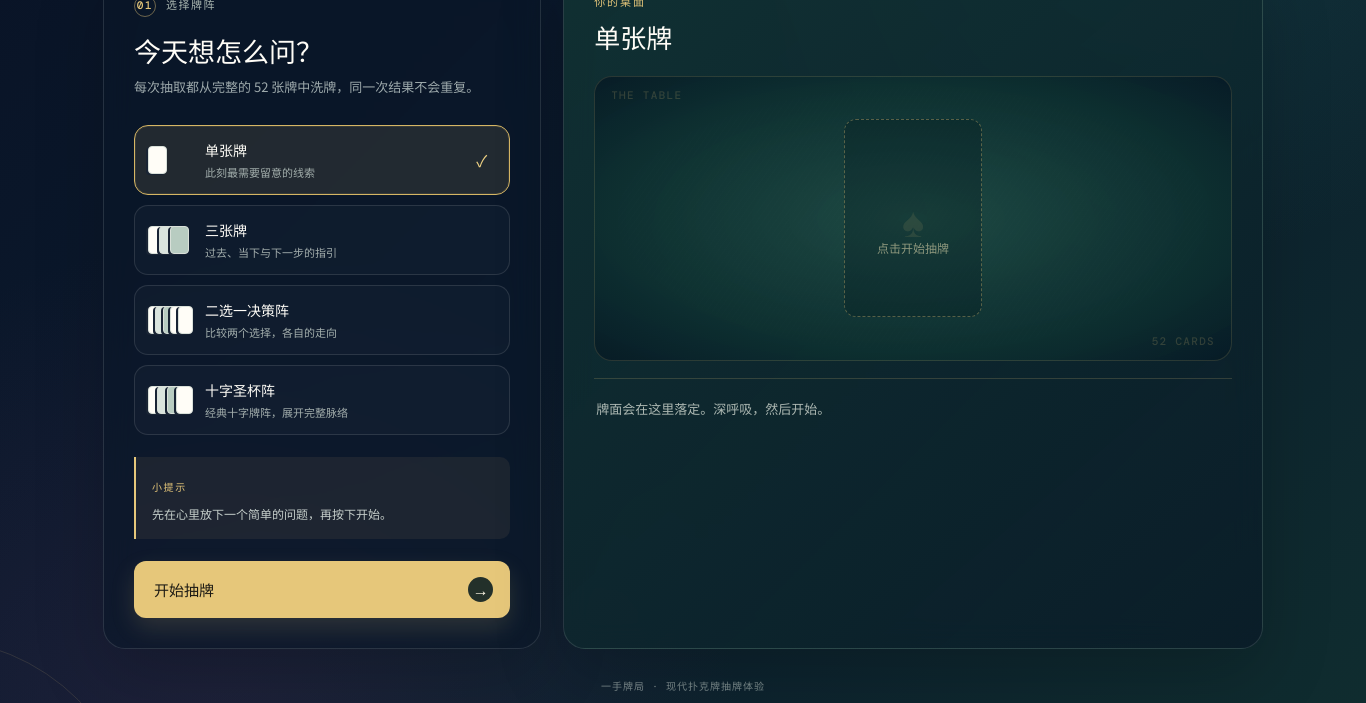
Test: 塔罗牌阵游戏 › 支持{}并展示对应牌位
(page scrolled)
Click the radio button labelled "二选一决策阵 比较两个选择，各自的走向".
click(247, 310)  # box left=134, top=285, right=510, bottom=355
(page scrolled)
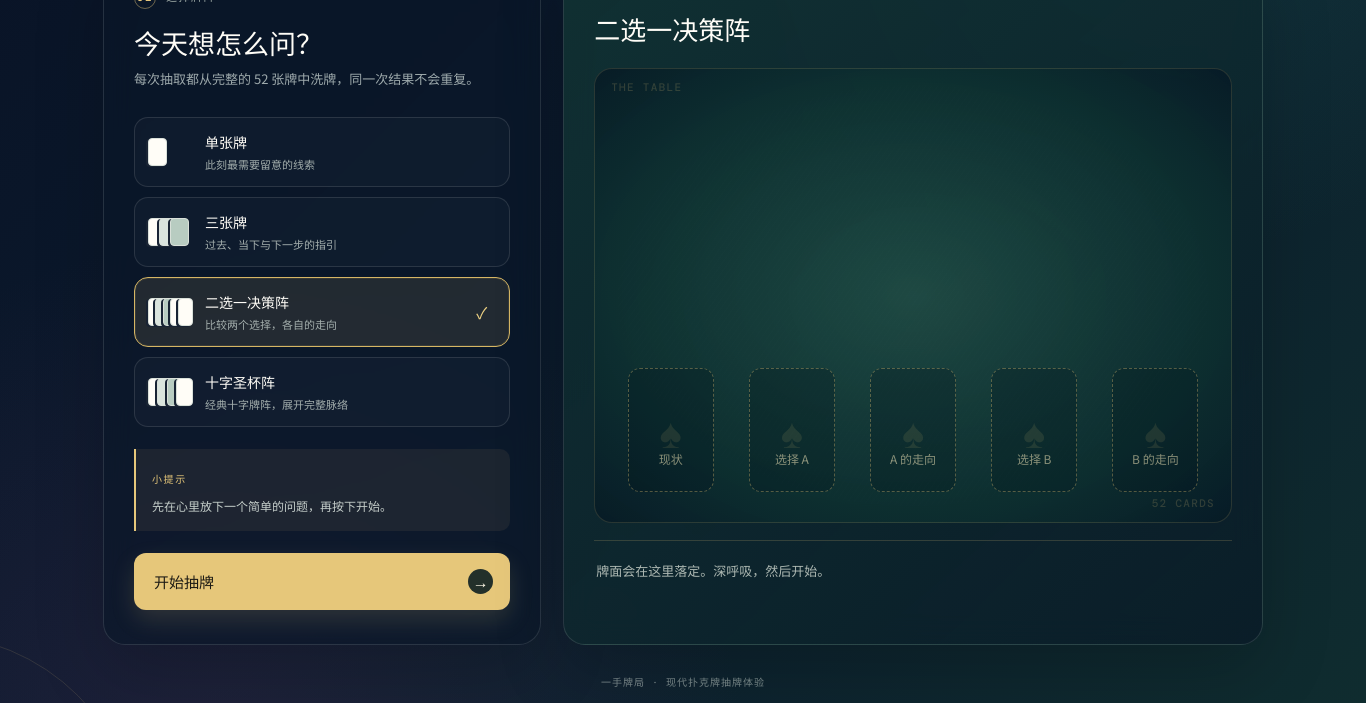
Click the button "开始抽牌 →".
click(184, 581)  # box left=134, top=552, right=510, bottom=610
Wait 540 ms
(page scrolled)
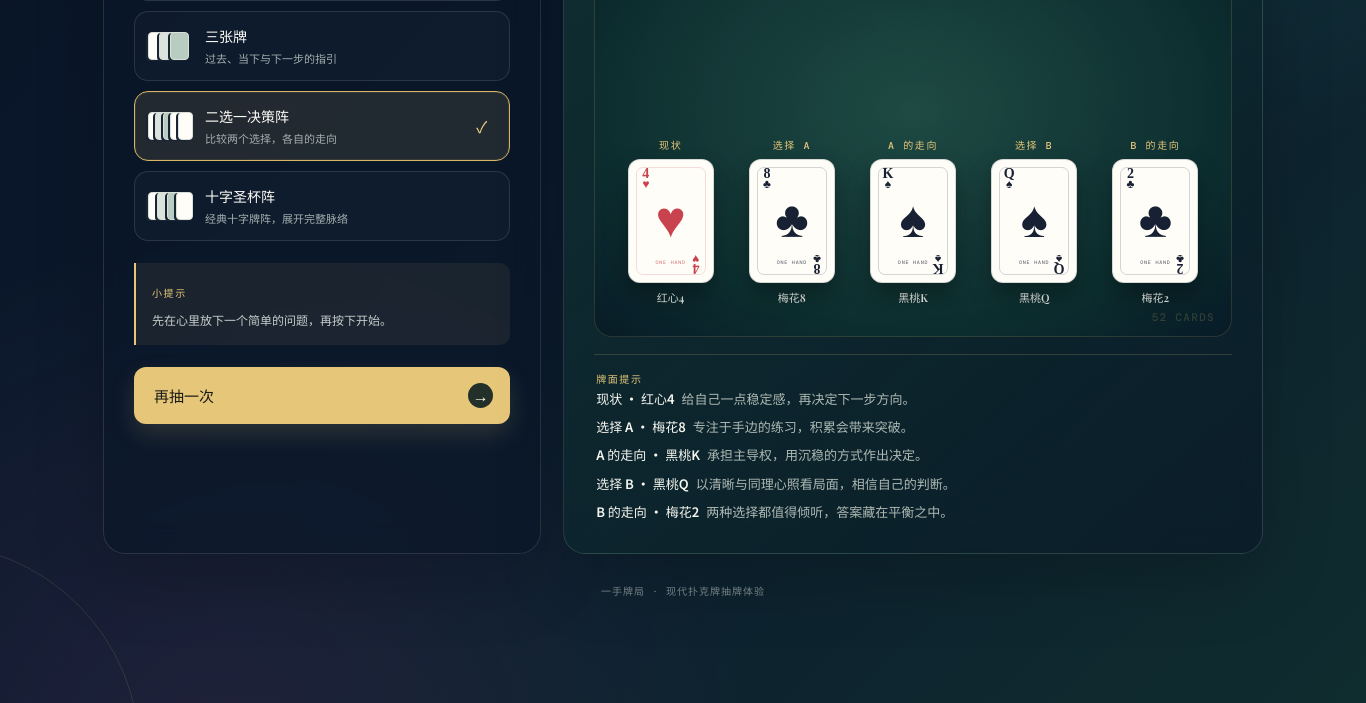
Check: the text "现状" is shown, box left=659, top=141, right=682, bottom=151
Check: the text "选择 A" is shown, box left=773, top=141, right=811, bottom=151
Check: the text "A 的走向" is shown, box left=888, top=141, right=938, bottom=151
